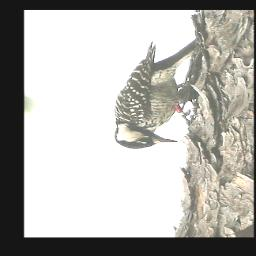Woodpecker: (114, 39, 203, 149)
